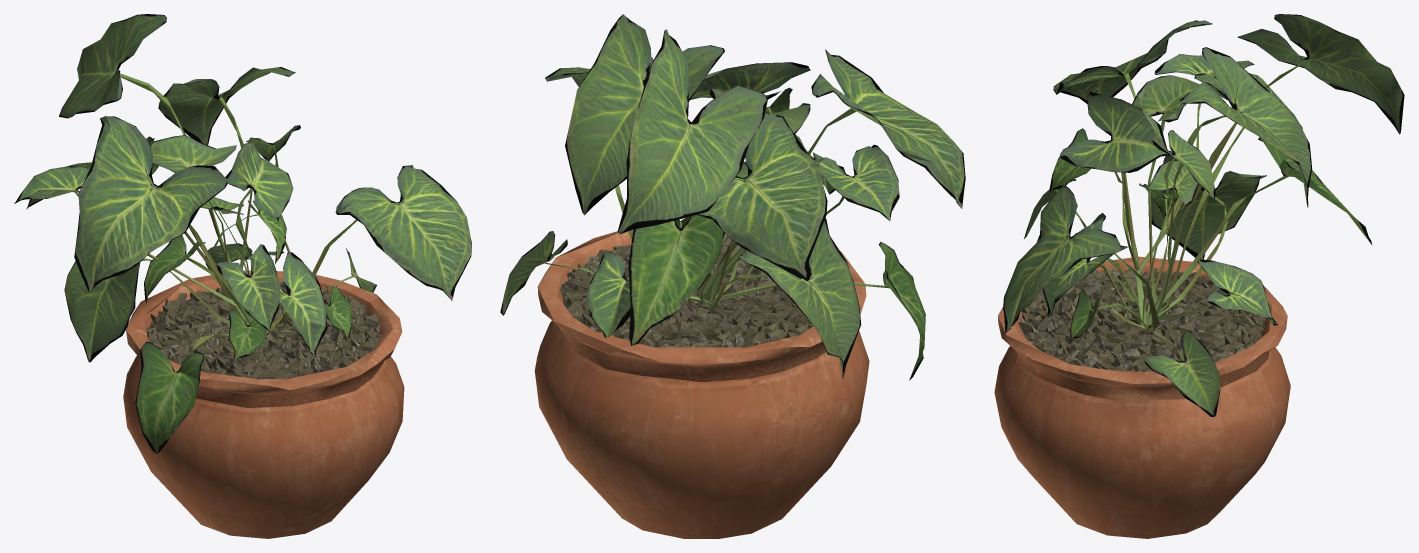
File: plant-leafy.glb
3 renders of one model, left to right at view 1: azimuth 30°, elevation 25°; view 2: azimuth 150°, elevation 25°; view 3: azimuth 270°, elevation 25°, orthographic. The views are drawn at different scales.
Visible parts, largest first — view 1: plant-leafy; view 2: plant-leafy; view 3: plant-leafy.
Boxes of the visible parts, x1,y1,x2,y2 form: plant-leafy: [14, 14, 471, 538]; plant-leafy: [500, 14, 965, 538]; plant-leafy: [994, 14, 1404, 538].
Bounding box in the file's own units: 0.7012 × 0.8413 × 0.6592.
2 materials, 2 textured.
